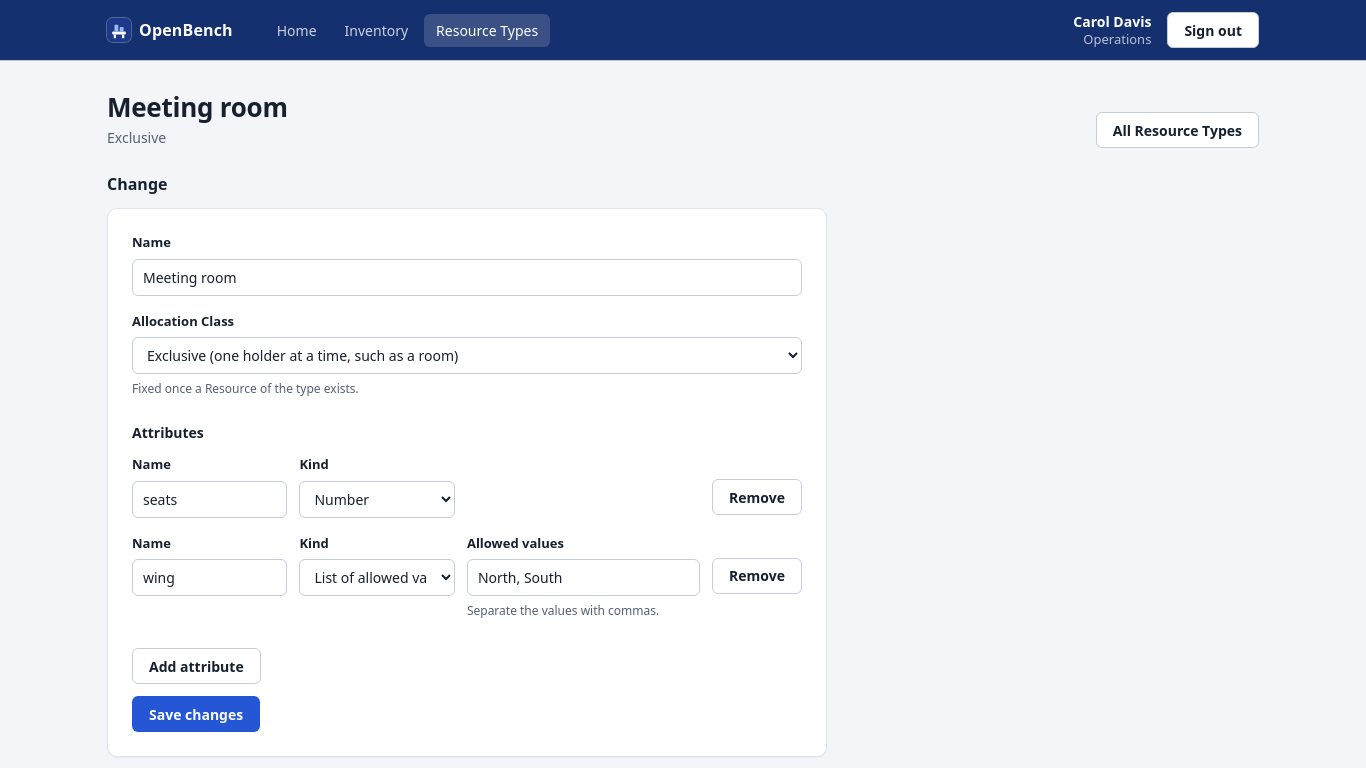
Test case: Resource Types administration › changes a type, keeping attribute ids and leaving out a removed attribute
Expected: the element named "Attribute 2" is shown, [132, 534, 802, 636]
Expected: the field labelled "Allowed values" holds "North, South", [467, 559, 700, 596]
Click the button with aria-label "Remove attribute 1" at (757,497), box [712, 479, 802, 515]
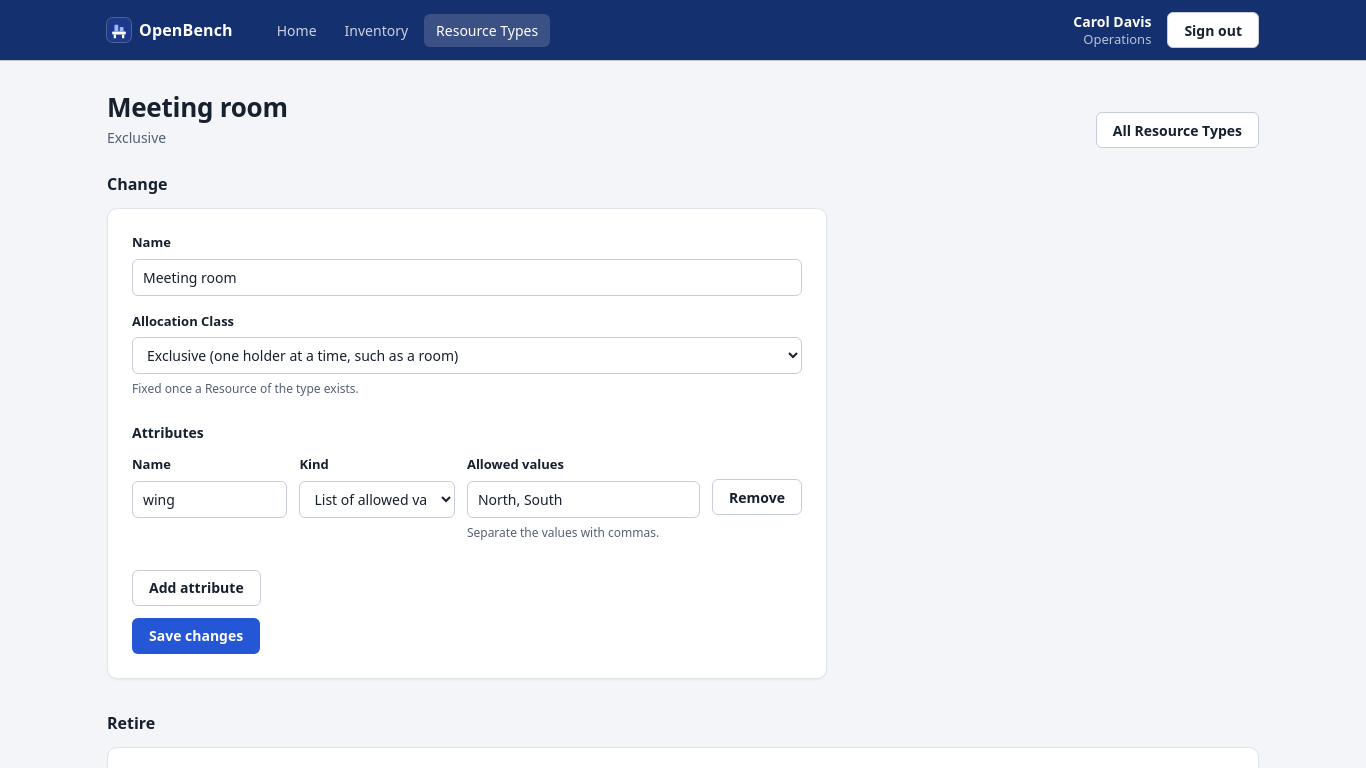
Type ", East" into the field labelled "Allowed values" at (584,499), box [467, 481, 700, 518]
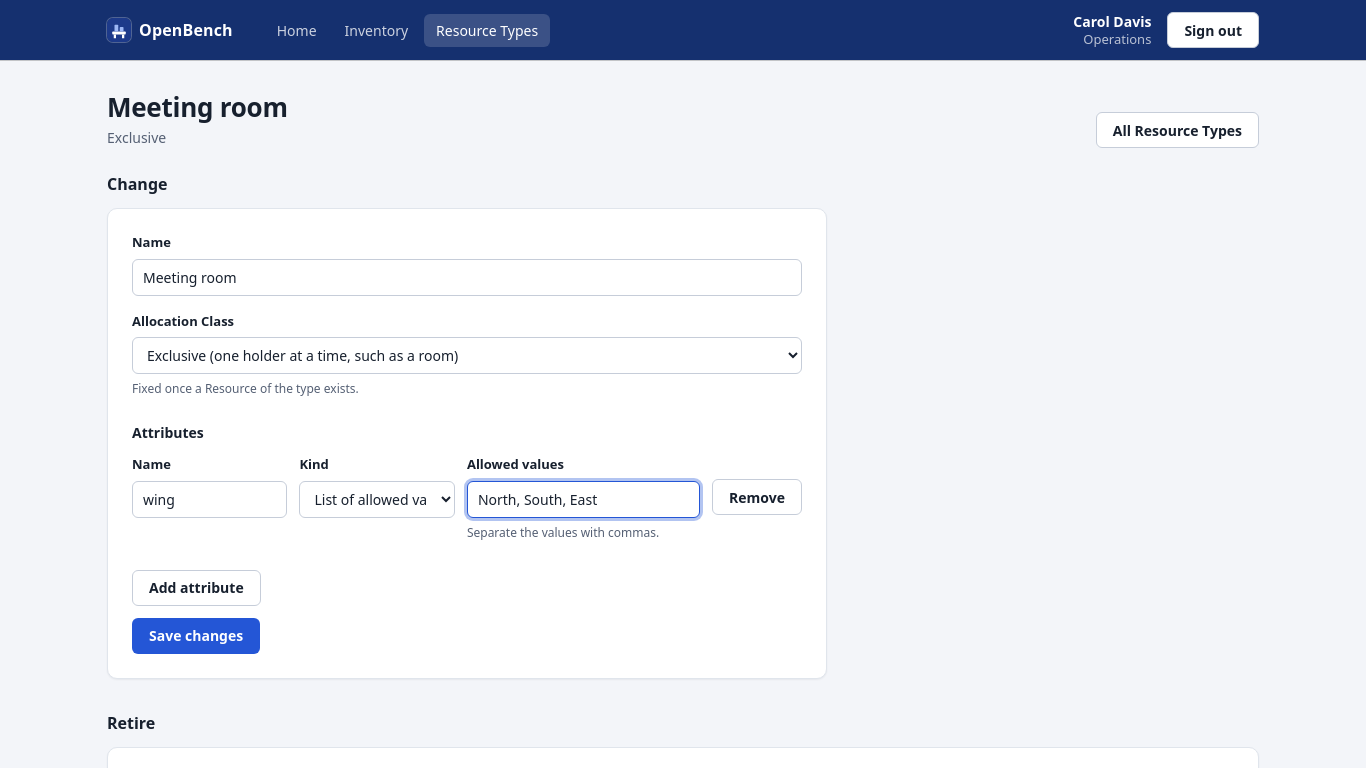
Click the button "Save changes" at (196,636), box [132, 618, 260, 654]
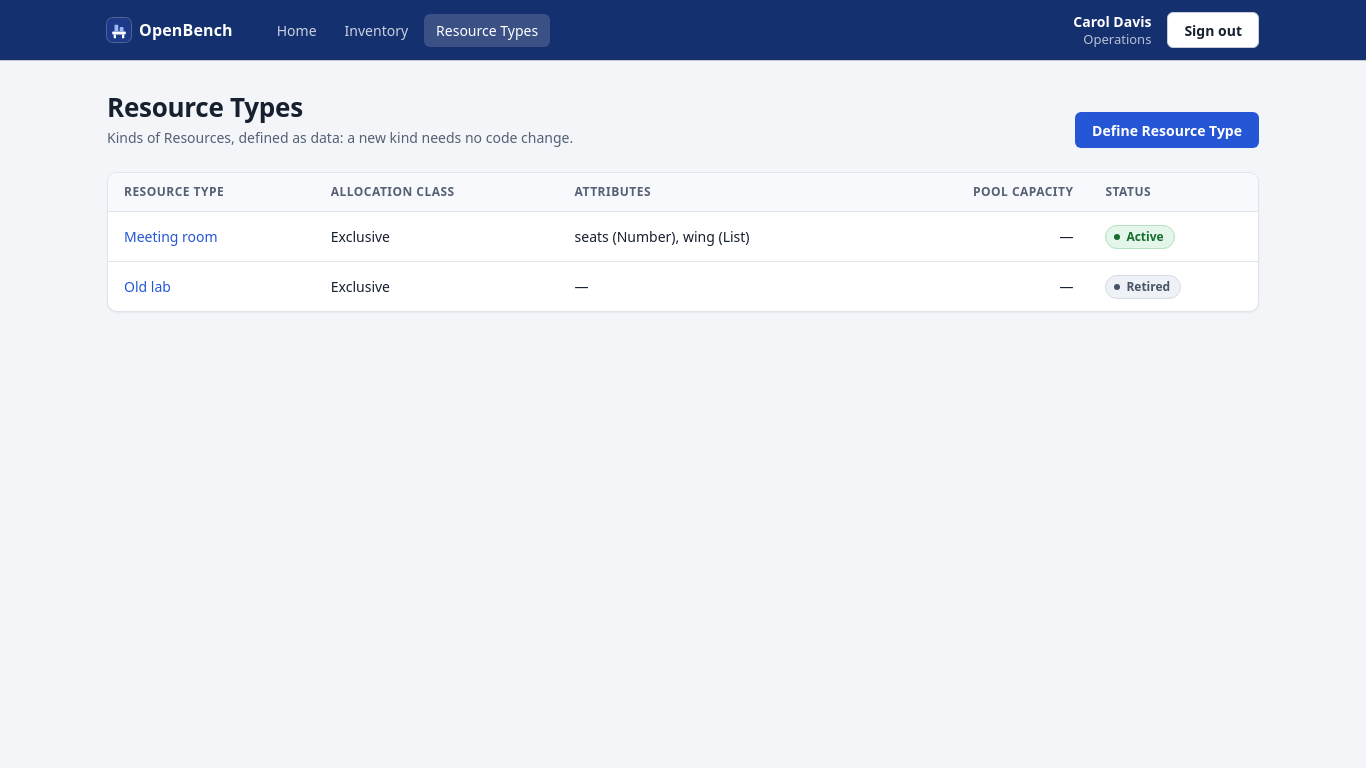
Expected: the heading "Resource Types" is shown, [107, 89, 303, 125]
